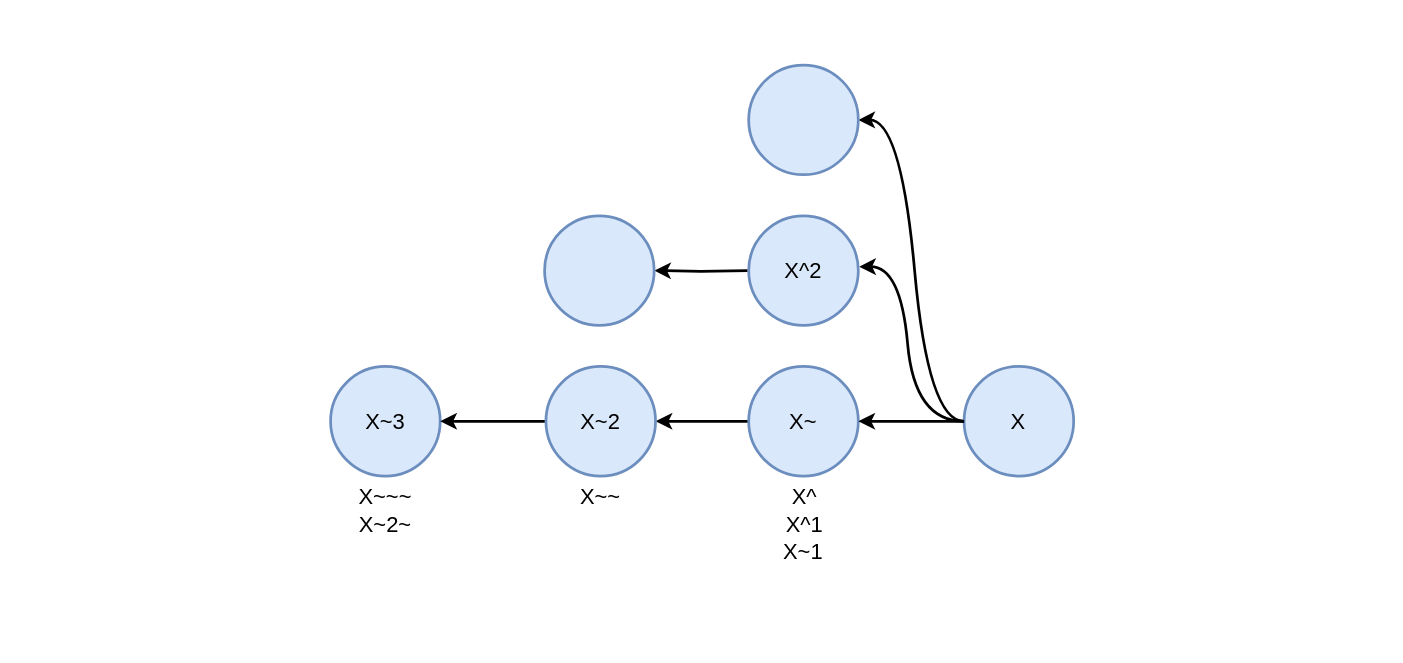
This 1403x663 diagram has some shape labels left out. Here are the shapes that lost their labels. From the top down, the box of each, then its label:
(747, 63, 859, 175): X^3
(543, 214, 655, 326): X^2~
